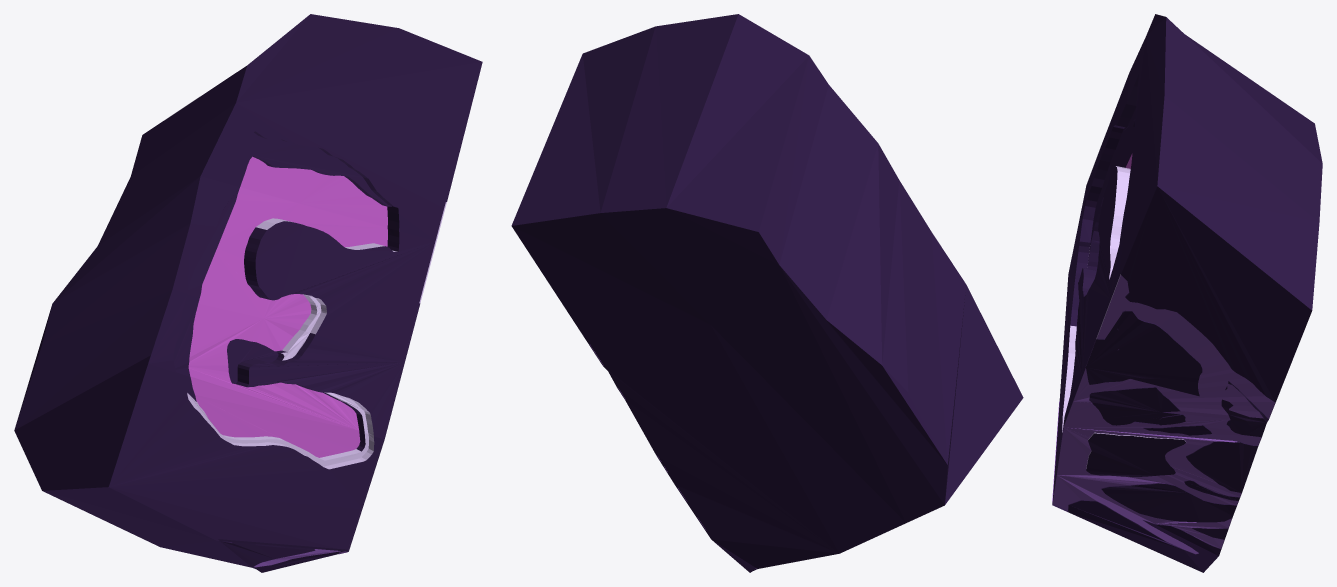
Rendered from Estone.fbx.
3 renders of one model, left to right at view 1: azimuth 30°, elevation 25°; view 2: azimuth 150°, elevation 25°; view 3: azimuth 270°, elevation 25°, orthographic. The views are drawn at different scales.
Visible parts, largest first — view 1: pCube12; view 2: pCube12; view 3: pCube12.
Part boxes in pixels (<box>): pCube12: <box>14,14,482,572</box>; pCube12: <box>511,14,1023,572</box>; pCube12: <box>1052,14,1322,572</box>.
Bounding box in the file's own units: 1.37 × 1.74 × 0.749.
Materials: 1 (1 with a texture image).
